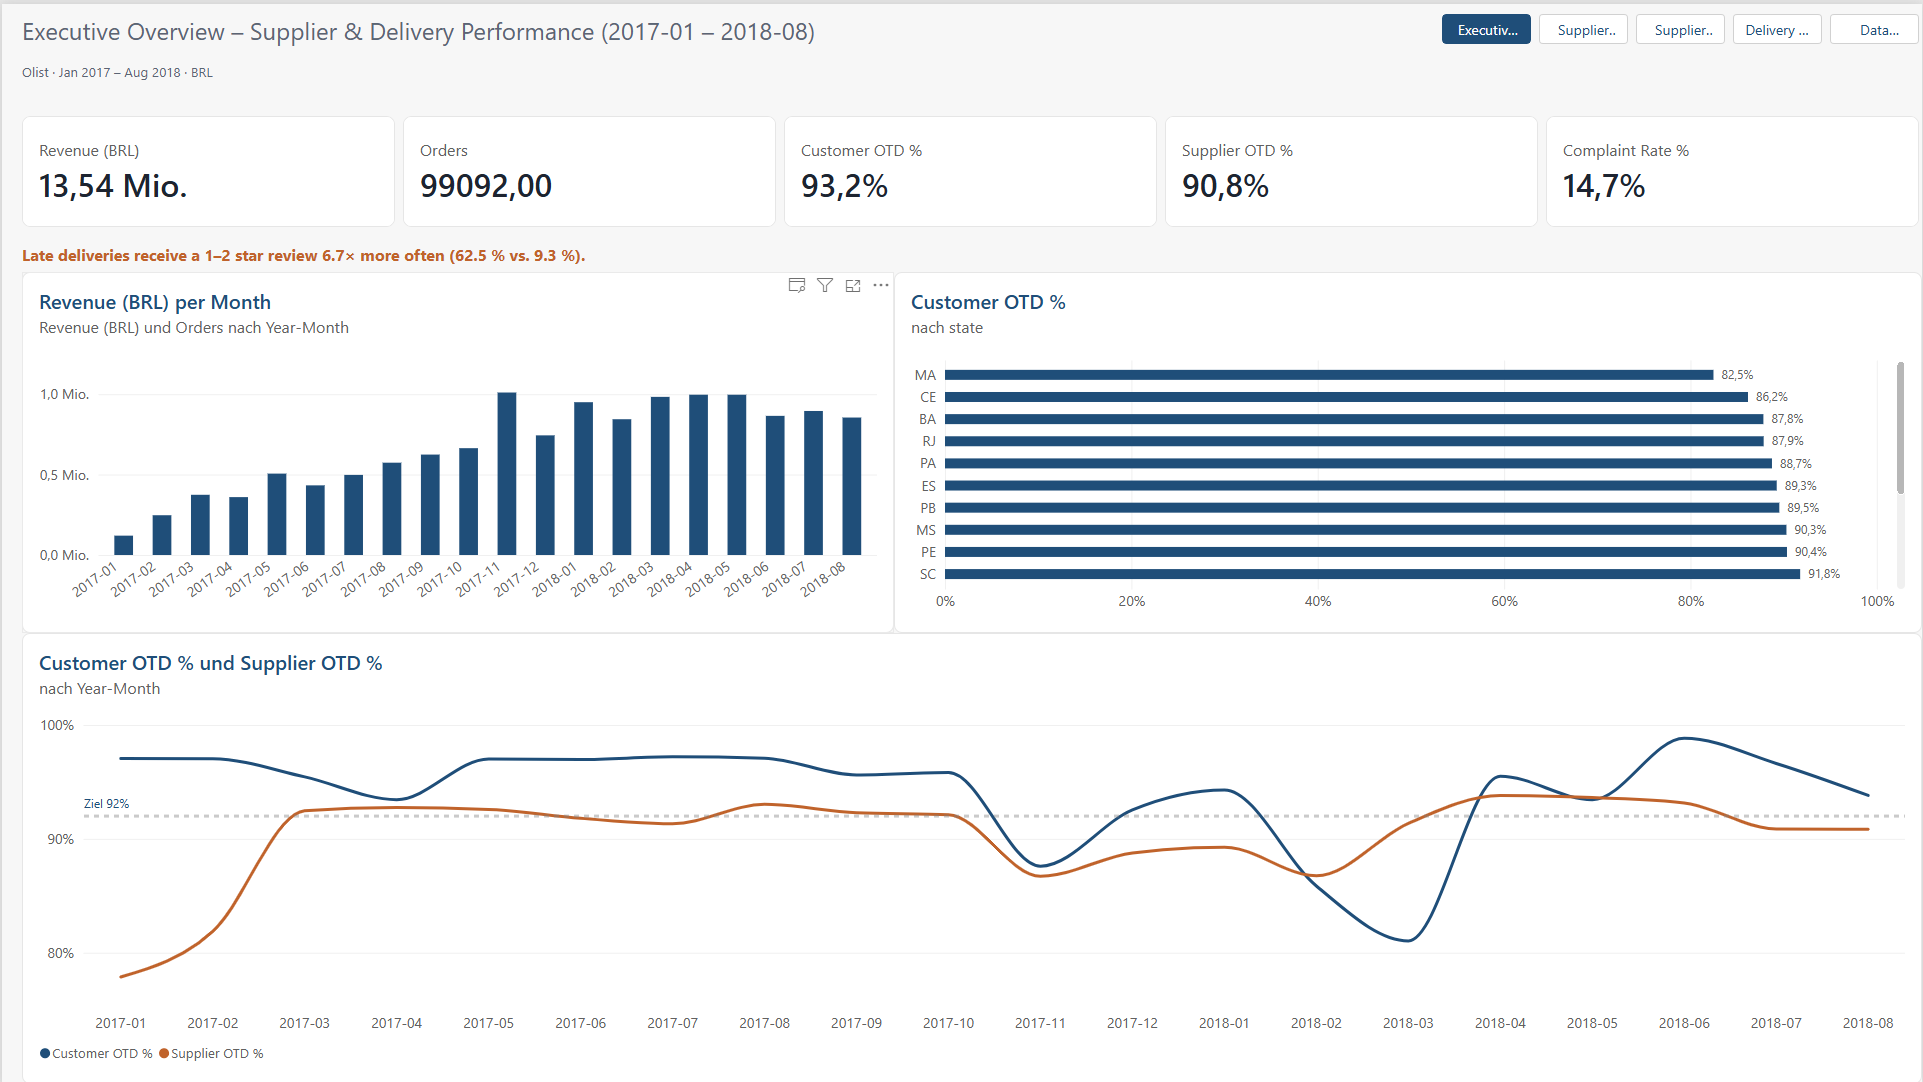

This screenshot's page, from the dashboard's own definition file:
{"tool":"powerbi","page":{"name":"Executive Overview","canvas":[1920,1080],"ordinal":0},"visuals":[{"type":"textbox","box":[20.2,10.1,1899.8,83.2],"z":0},{"type":"cardVisual","fields":{"Data":["_Measures.Revenue (BRL)","_Measures.Orders","_Measures.Customer OTD %","_Measures.Supplier OTD %","_Measures.Complaint Rate %"]},"box":[20.2,112.5,1899.8,110.2],"z":1000},{"type":"lineChart","fields":{"Category":["dim_date.Year-Month"],"Y":["_Measures.Customer OTD %","_Measures.Supplier OTD %"]},"box":[20.2,628.8,1899.8,451],"z":2000},{"type":"clusteredColumnChart","title":"Revenue (BRL) per Month","fields":{"Category":["dim_date.Year-Month"],"Y":["_Measures.Revenue (BRL)"]},"box":[20.2,267.7,871.7,361.1],"z":3000},{"type":"clusteredBarChart","fields":{"Category":["dim_customer.state"],"Y":["_Measures.Customer OTD %"]},"box":[892,267.7,1028,361.1],"z":4000},{"type":"textbox","box":[20.2,222.7,1239.5,45],"z":5000},{"type":"pageNavigator","box":[1439.7,10.1,480,30],"z":5001}]}

Visuals, with their boxes in screenshot pixels (x1, y1, x2, y2), scaled from the page's 1920x1080 canvas onto the 1923x1082 screenshot:
textbox: locate(20, 10, 1922, 93)
cardVisual - _Measures.Revenue (BRL) x _Measures.Orders: locate(20, 113, 1922, 223)
lineChart - dim_date.Year-Month x _Measures.Customer OTD %: locate(20, 630, 1922, 1081)
"Revenue (BRL) per Month" clusteredColumnChart: locate(20, 268, 893, 630)
clusteredBarChart - dim_customer.state x _Measures.Customer OTD %: locate(893, 268, 1922, 630)
textbox: locate(20, 223, 1262, 268)
pageNavigator: locate(1442, 10, 1922, 40)
